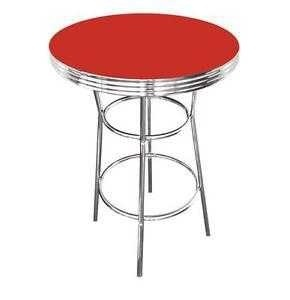obstacle: (49, 13, 238, 276)
